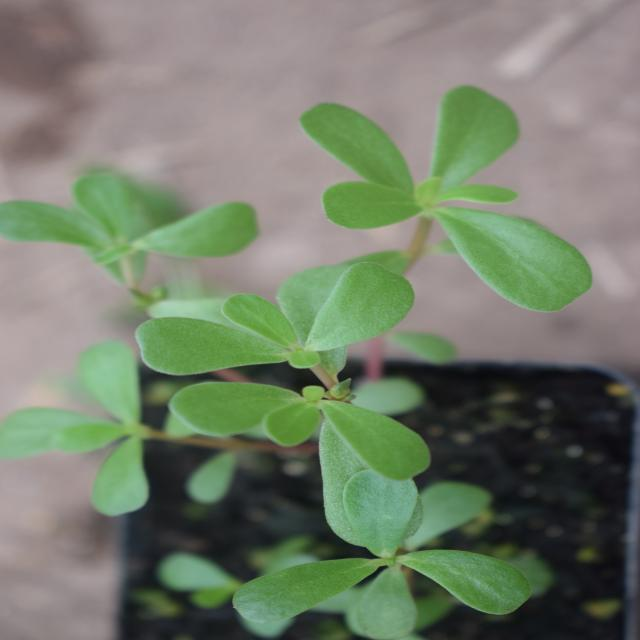purslane: (17, 19, 561, 581)
